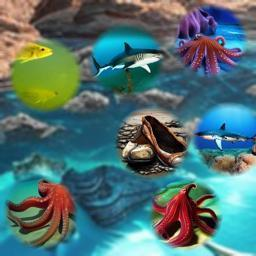not an animal: (121, 117, 189, 169)
